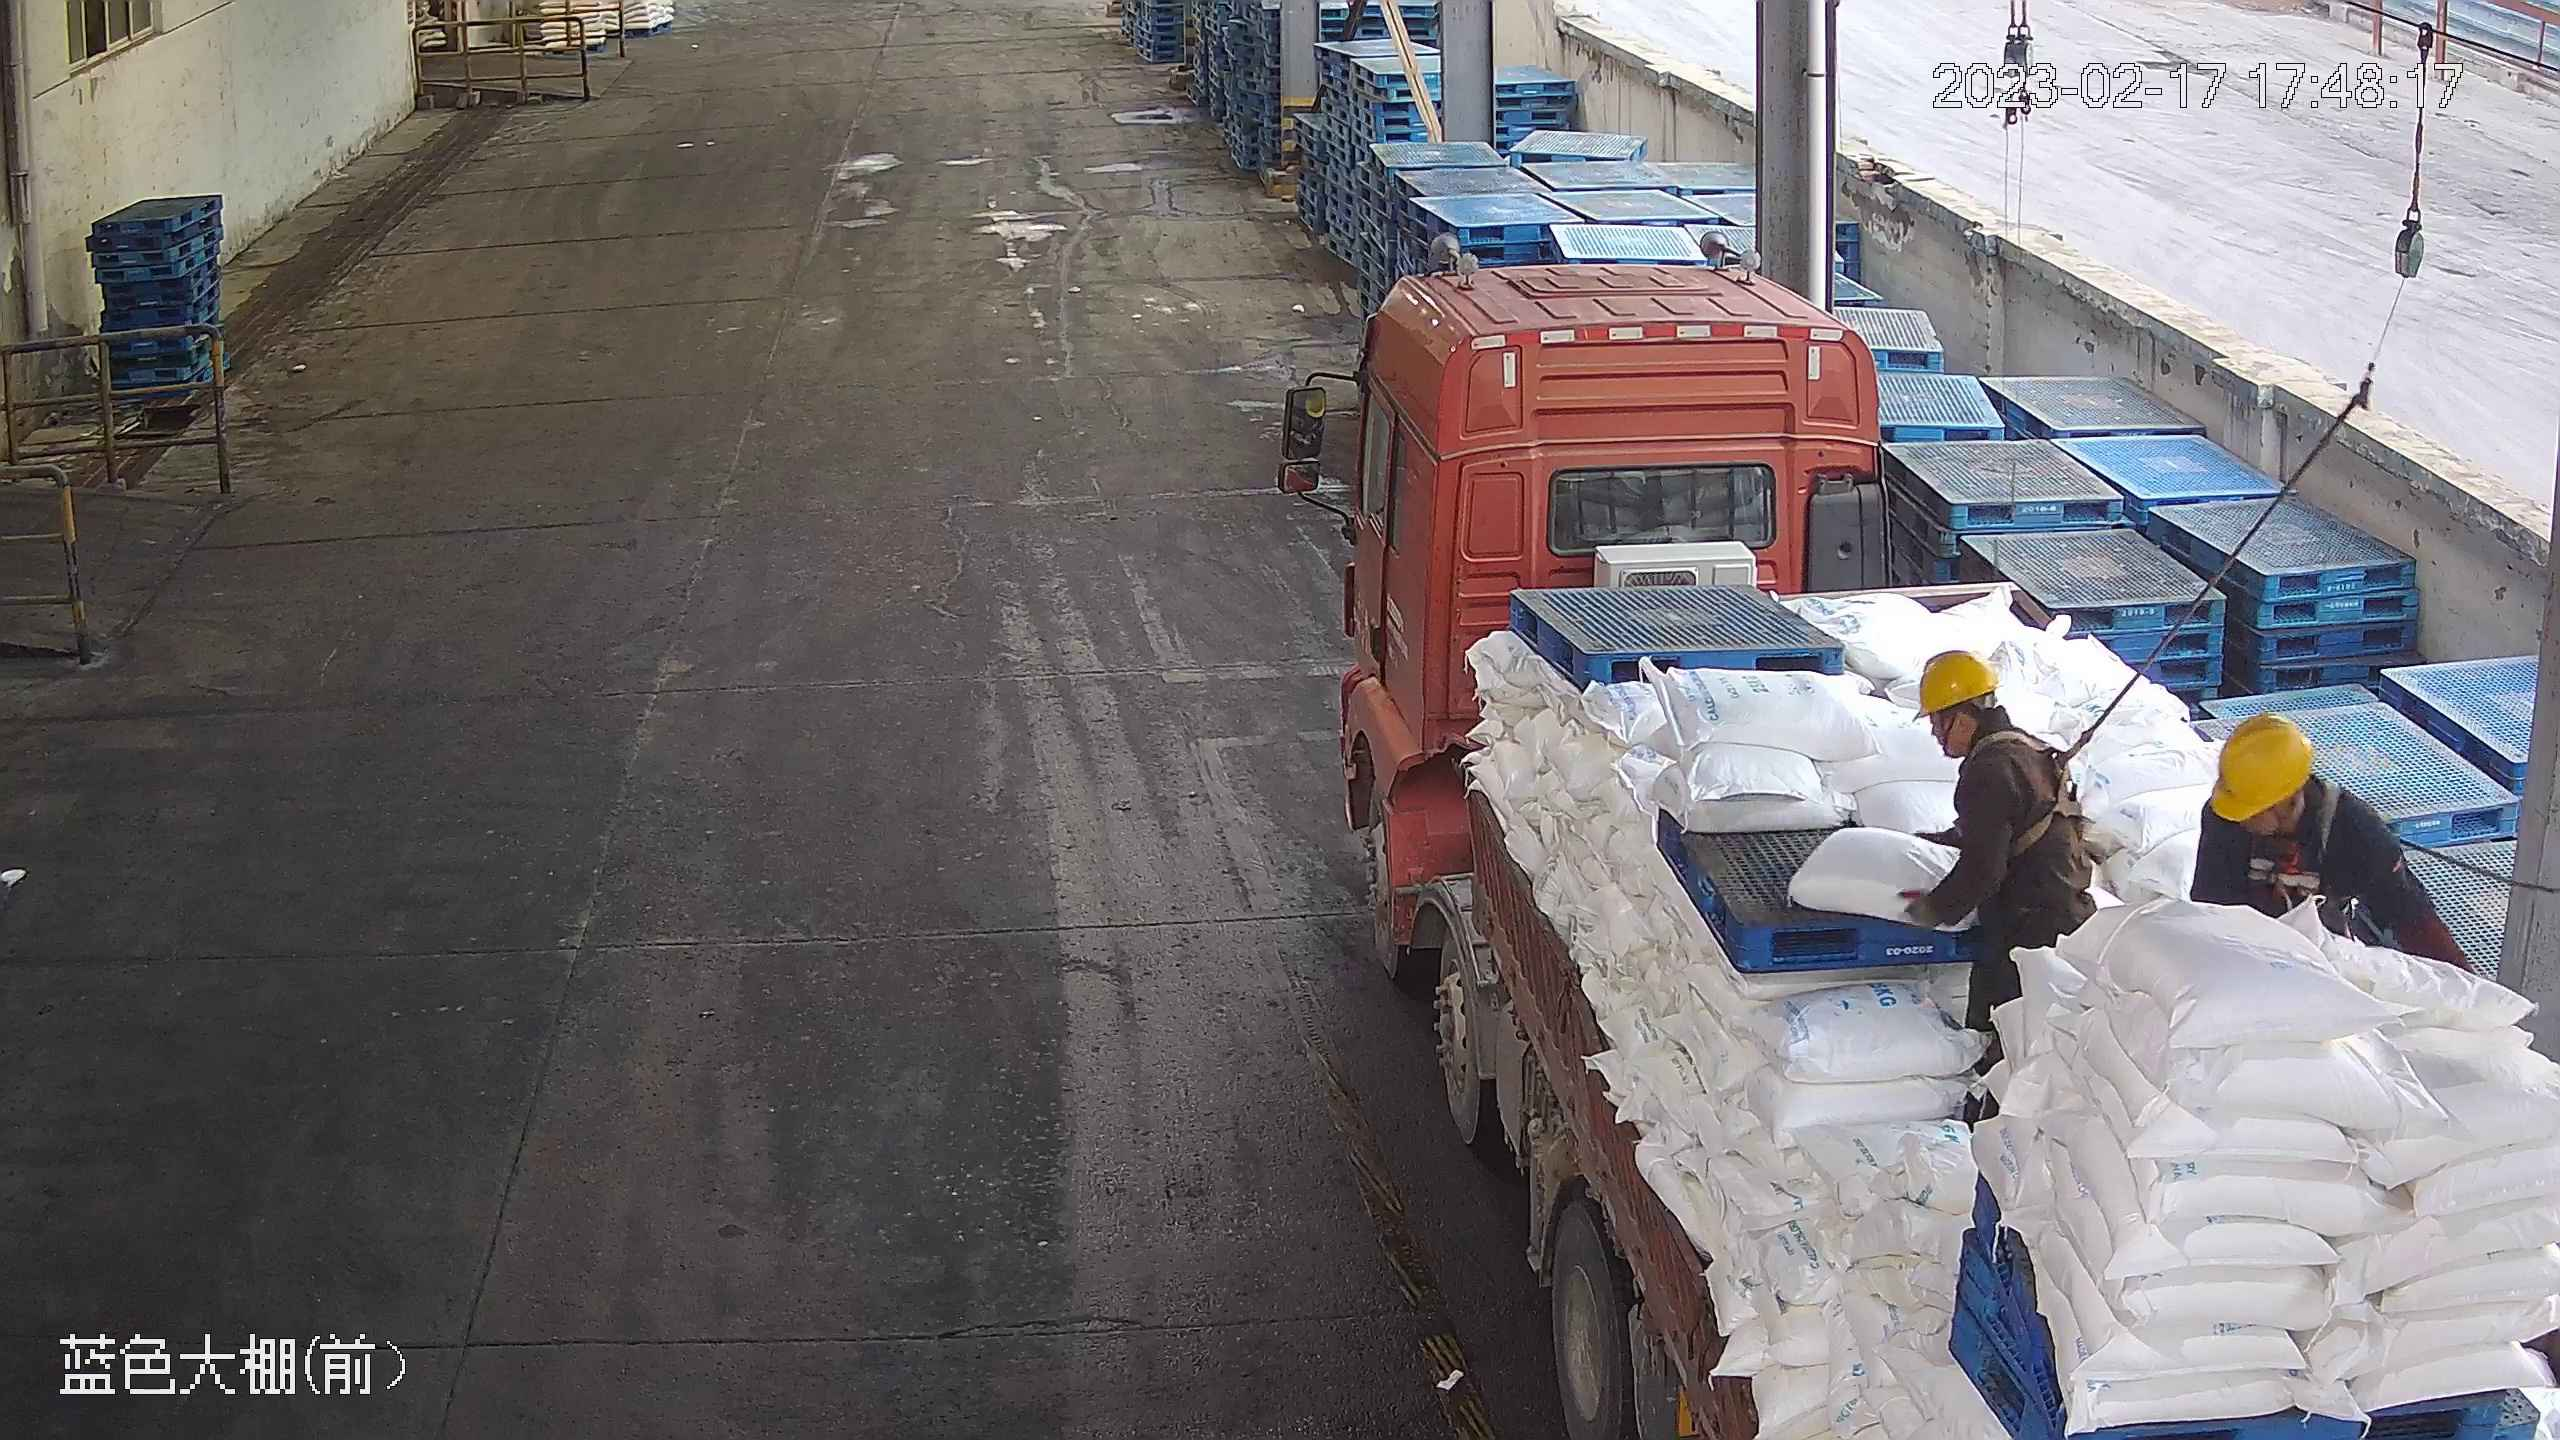belt: (1976, 729, 2088, 855), (2252, 779, 2345, 900)
head: (2201, 711, 2401, 861), (1912, 647, 2070, 801)
helmet: (2210, 710, 2316, 821), (1910, 647, 2003, 716)
people: (1900, 650, 2098, 1123)
truck: (1278, 251, 2560, 1440)
